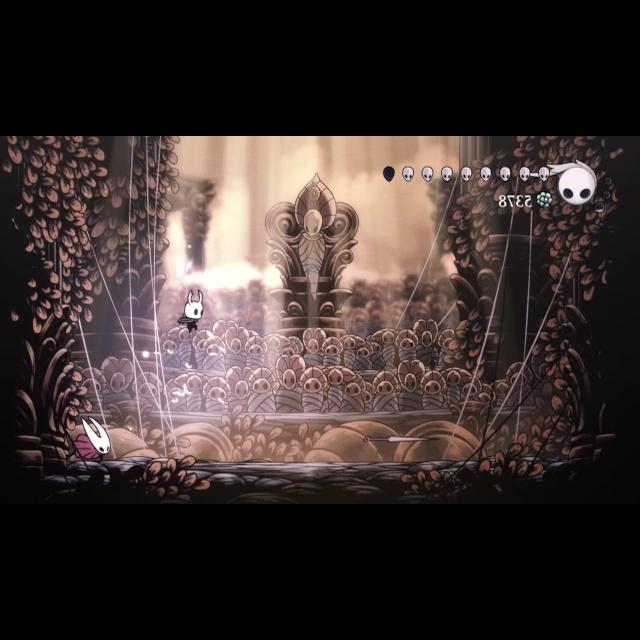Enemy: (62, 413, 118, 467)
NailAttack: (356, 428, 442, 450)
Player: (174, 282, 210, 338)
